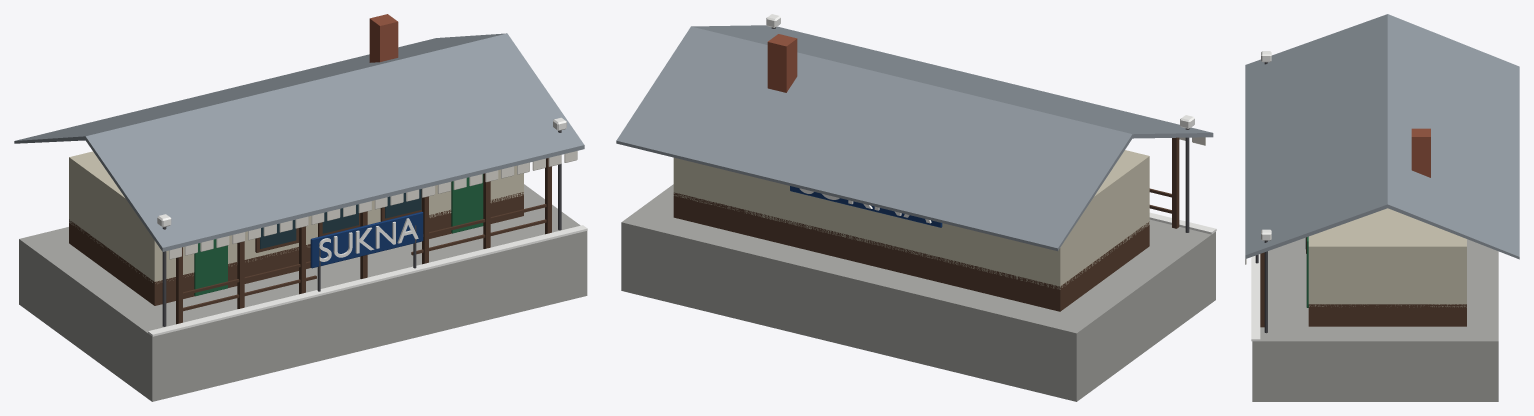
Rendered from station_sukna.glb.
3 views of the same model, side by side, from view 1: azimuth 30°, elevation 25°; view 2: azimuth 150°, elevation 25°; view 3: azimuth 270°, elevation 25° (orthographic). The views are drawn at different scales.
Parts seen in each view (by area): view 1: station.001; view 2: station.001; view 3: station.001.
Part boxes in pixels (box(x1,y1,x2,y2)): station.001: box(14, 14, 587, 401); station.001: box(616, 14, 1216, 401); station.001: box(1245, 14, 1519, 401).
Size of the model in its own units: 13.2 by 6.85 by 7.8.
